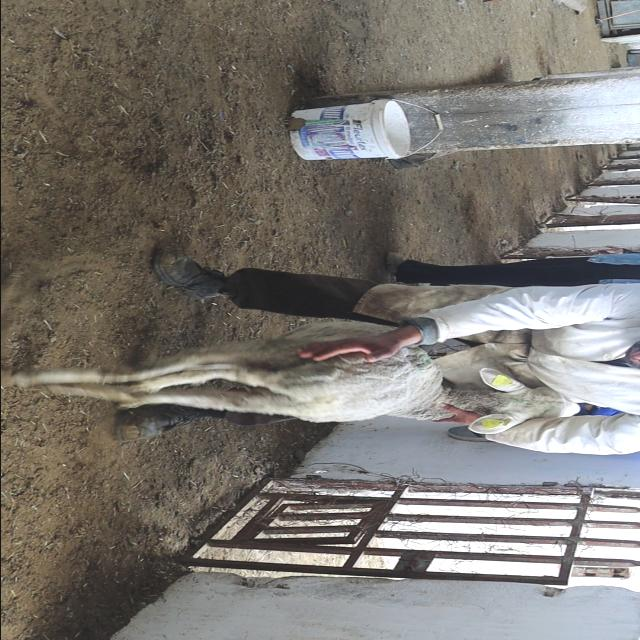Score_1: (1, 321, 577, 435)
